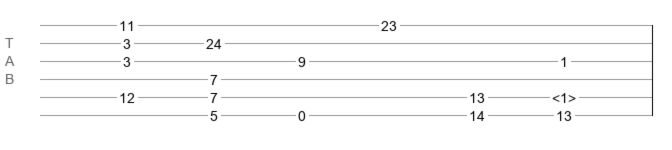0: (298, 108, 306, 118)
1: (560, 54, 568, 64)
11: (119, 18, 135, 28)
12: (119, 90, 135, 100)
13: (469, 90, 485, 100), (556, 108, 572, 118)
14: (469, 108, 485, 118)
23: (381, 18, 397, 28)
24: (206, 36, 222, 46)
3: (123, 36, 131, 46), (123, 54, 131, 64)
5: (210, 108, 218, 118)
7: (210, 72, 218, 82), (210, 90, 218, 100)
9: (298, 54, 306, 64)
harmonic: (552, 90, 576, 100)
